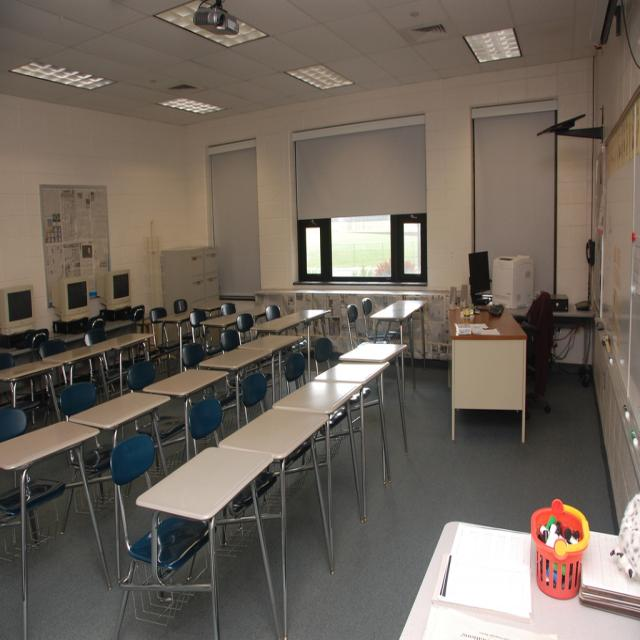chair: (143, 396, 283, 635), (111, 434, 215, 637), (58, 382, 114, 522), (516, 290, 554, 406), (149, 312, 180, 377), (238, 369, 268, 428), (284, 350, 307, 392), (182, 344, 204, 371), (39, 337, 67, 358), (220, 328, 240, 352), (236, 313, 254, 335), (265, 304, 281, 322)
desk: (446, 300, 524, 440)
tv: (0, 286, 34, 336), (96, 270, 130, 309), (467, 250, 492, 302)
